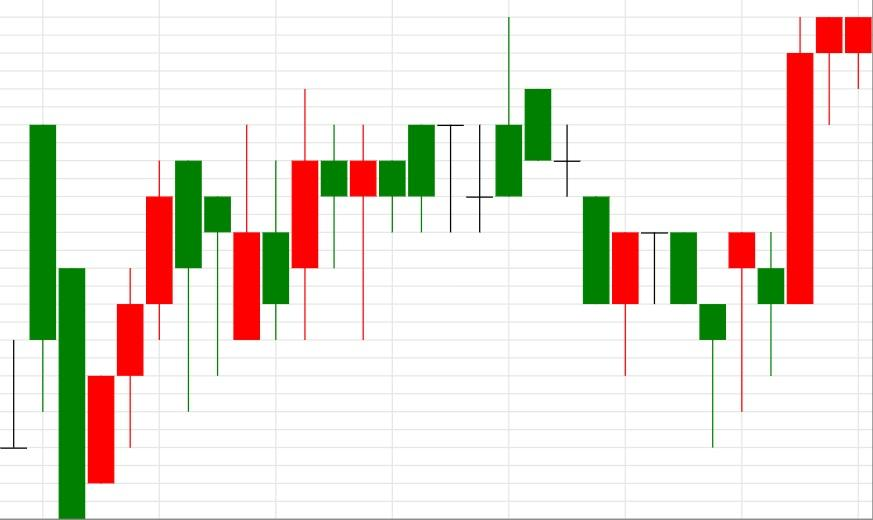hammer_rise: (525, 89, 726, 448)
three_white_soldiers_rise: (30, 125, 173, 520)
